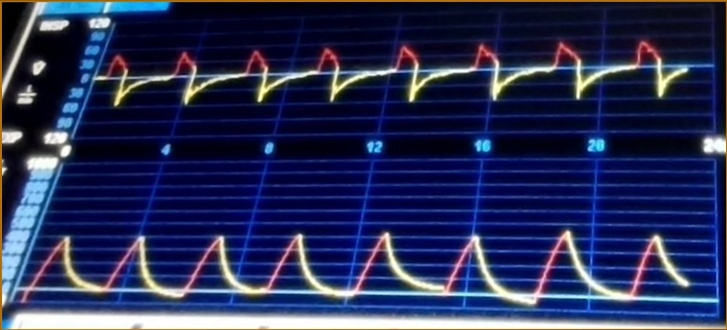Accumulation Flow: (108, 36, 686, 134)
Volume: (39, 223, 684, 310)
